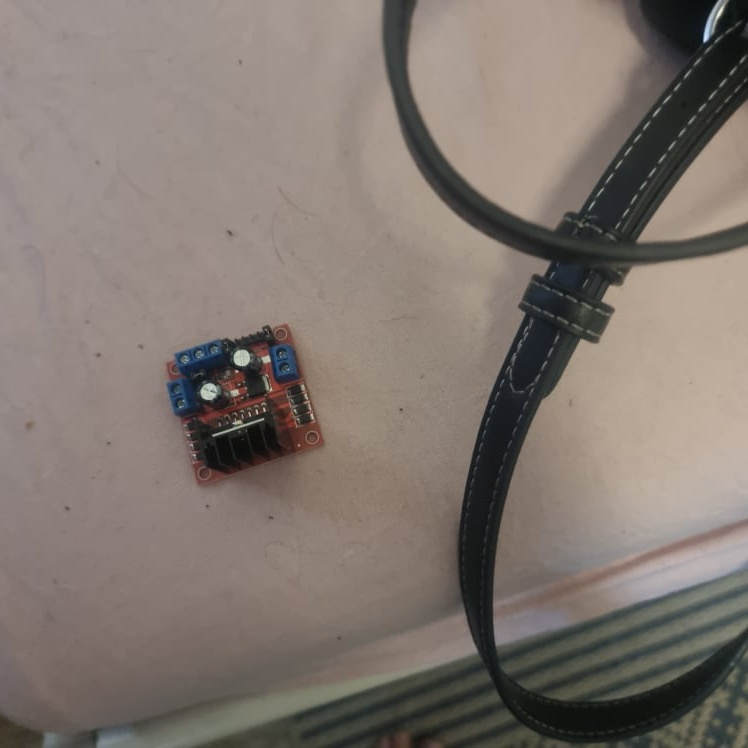MOTOR: (163, 322, 327, 489)
